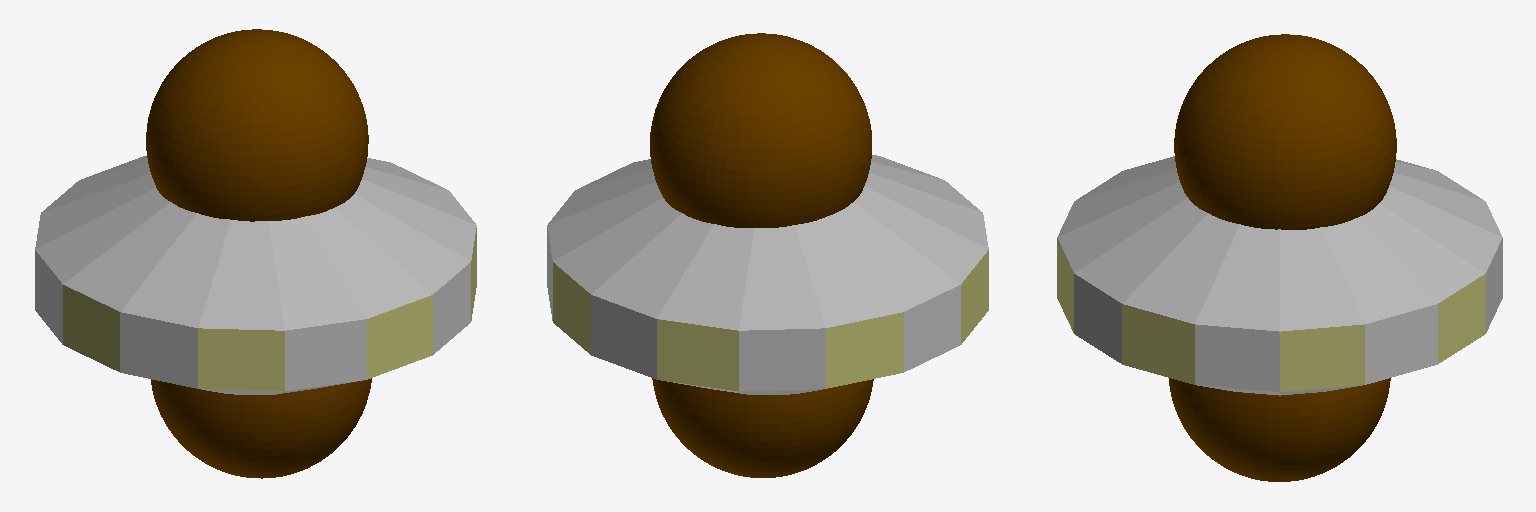
Rendered from ufoballl1.obj.
3 views of the same model, side by side, from view 1: azimuth 30°, elevation 25°; view 2: azimuth 150°, elevation 25°; view 3: azimuth 270°, elevation 25° (orthographic).
Visible parts, largest first — view 1: ufo_top_surface, Sphere.004, Sphere, ufo_default, ufo_window1; view 2: ufo_top_surface, Sphere.004, Sphere, ufo_window1, ufo_default; view 3: ufo_top_surface, Sphere.004, Sphere, ufo_default, ufo_window1.
Boxes of the visible parts, x1=… form: ufo_top_surface: x1=35, y1=156, x2=476, y2=394; Sphere.004: x1=146, y1=29, x2=368, y2=221; Sphere: x1=151, y1=378, x2=371, y2=478; ufo_default: x1=35, y1=250, x2=470, y2=390; ufo_window1: x1=63, y1=228, x2=476, y2=390; ufo_top_surface: x1=547, y1=155, x2=988, y2=394; Sphere.004: x1=650, y1=33, x2=871, y2=227; Sphere: x1=652, y1=378, x2=873, y2=477; ufo_window1: x1=553, y1=250, x2=988, y2=390; ufo_default: x1=547, y1=228, x2=960, y2=390; ufo_top_surface: x1=1057, y1=156, x2=1502, y2=395; Sphere.004: x1=1174, y1=34, x2=1396, y2=229; Sphere: x1=1169, y1=378, x2=1390, y2=481; ufo_default: x1=1074, y1=238, x2=1502, y2=391; ufo_window1: x1=1057, y1=238, x2=1485, y2=391.
Size of the model in its own units: 4 by 4.23 by 4.